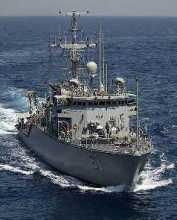warship: (18, 6, 156, 196)
